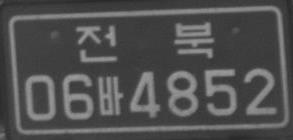0: (23, 73, 57, 121)
2: (244, 66, 277, 116)
4: (129, 71, 161, 119)
5: (203, 67, 238, 115)
6: (62, 72, 93, 120)
8: (165, 70, 199, 118)
바: (97, 76, 123, 116)
전북_D: (75, 21, 215, 62)
